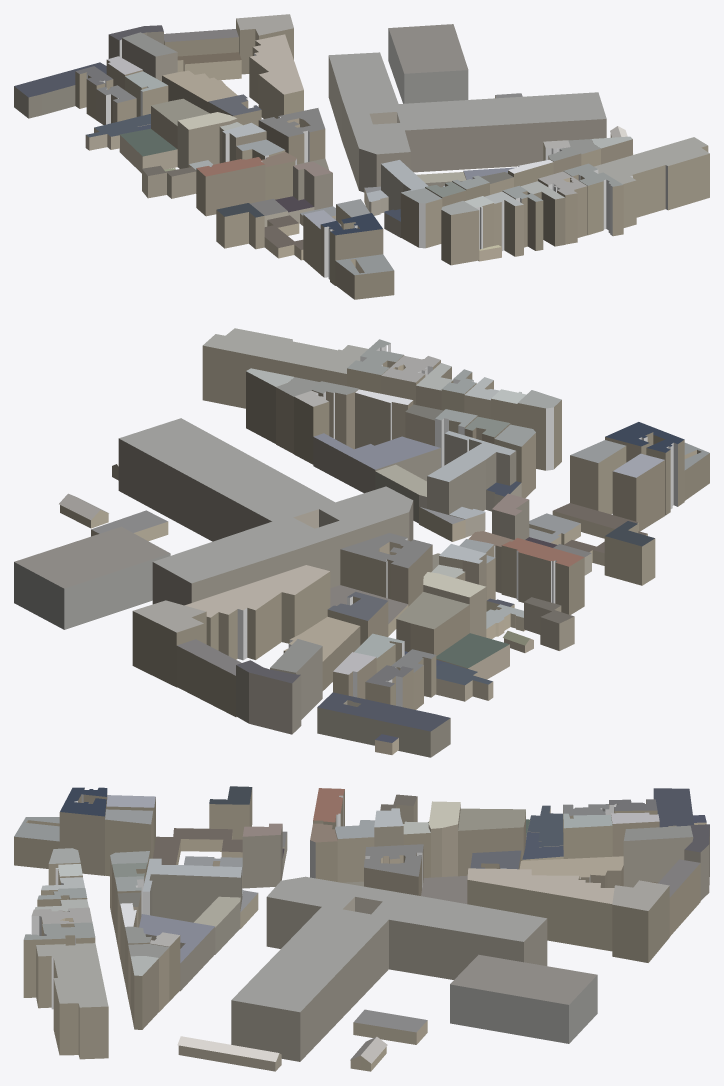
3 views of the same model, one above another, from view 1: azimuth 30°, elevation 25°; view 2: azimuth 150°, elevation 25°; view 3: azimuth 270°, elevation 25° (orthographic). The views are drawn at different scales.
Visible parts, largest first — view 1: tuile; view 2: tuile; view 3: tuile.
Boxes of the visible parts, x1,y1,x2,y2 form: tuile: (14,14,709,299); tuile: (14,328,709,757); tuile: (14,786,709,1071).
Size of the model in its own units: 222 by 28.75 by 261.
